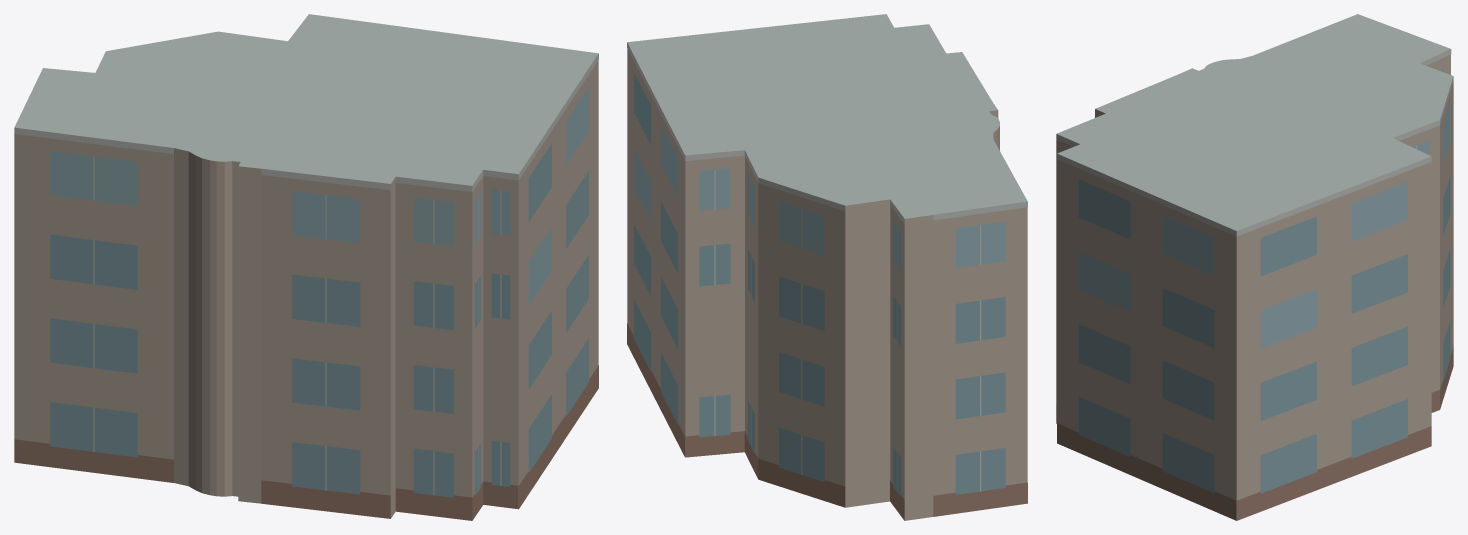
The model's file is survey-upis-32979827.glb.
3 views of the same model, side by side, from view 1: azimuth 30°, elevation 25°; view 2: azimuth 150°, elevation 25°; view 3: azimuth 270°, elevation 25° (orthographic). The views are drawn at different scales.
Parts seen in each view (by area): view 1: survey-upis-32979827.tmp; view 2: survey-upis-32979827.tmp; view 3: survey-upis-32979827.tmp.
Part boxes in pixels (box(x1,y1,x2,y2)): survey-upis-32979827.tmp: box(14, 14, 598, 520); survey-upis-32979827.tmp: box(627, 14, 1027, 520); survey-upis-32979827.tmp: box(1056, 14, 1453, 520).
Size of the model in its own units: 20.98 by 13.05 by 16.23.
